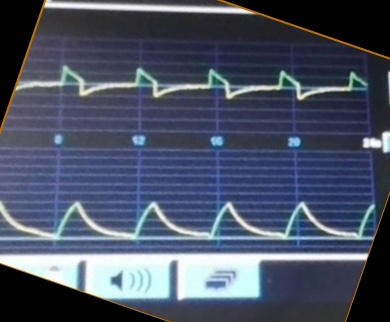Normal Flow: (23, 59, 366, 127)
Normal Volume: (1, 178, 371, 246)
